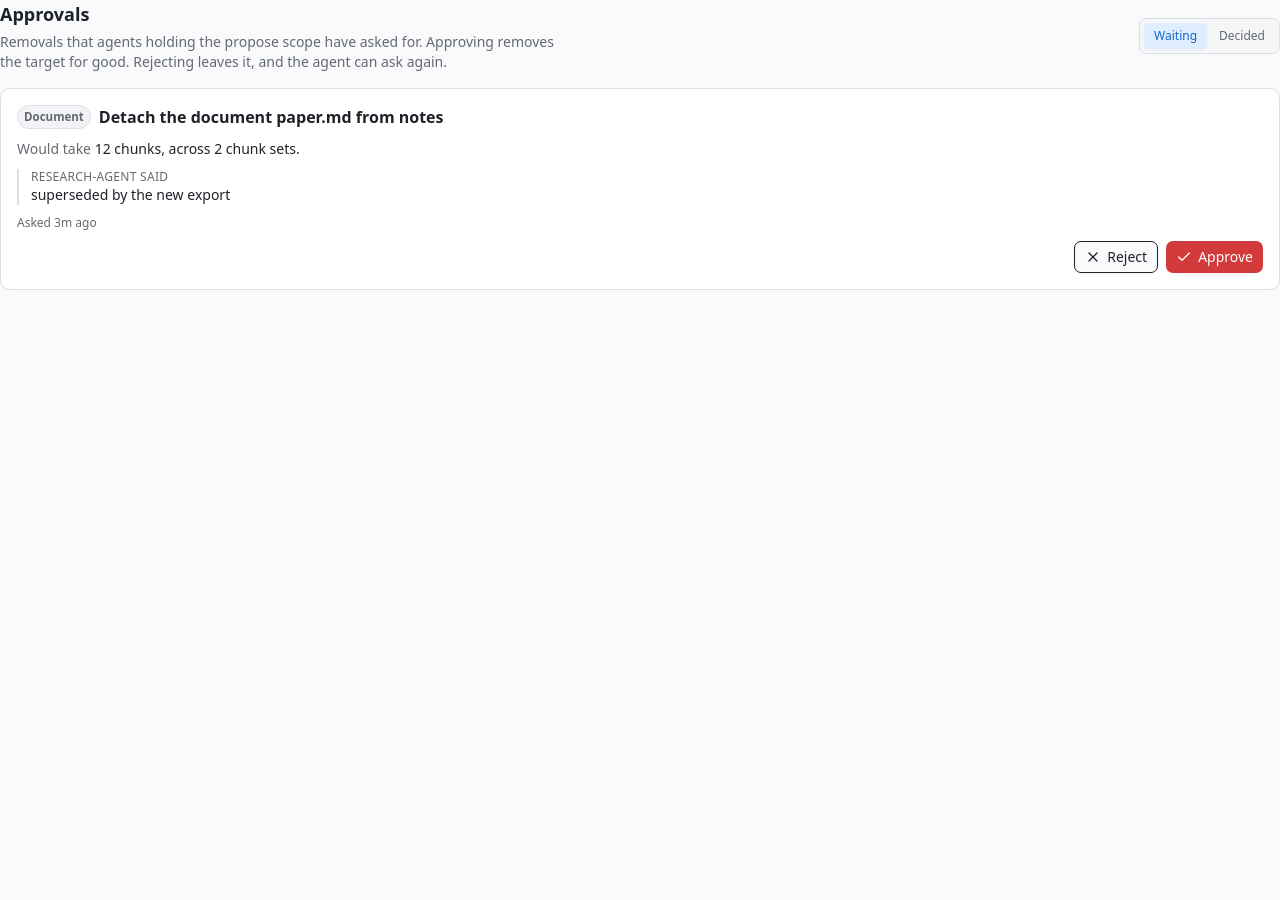
Test: approving › says an uploaded document is deleted with its last attachment, not that it is indexed again
Step 1. Click the button with aria-label "Approve: Detach the document" → (1215, 257), box 1166,241 -> 1263,273
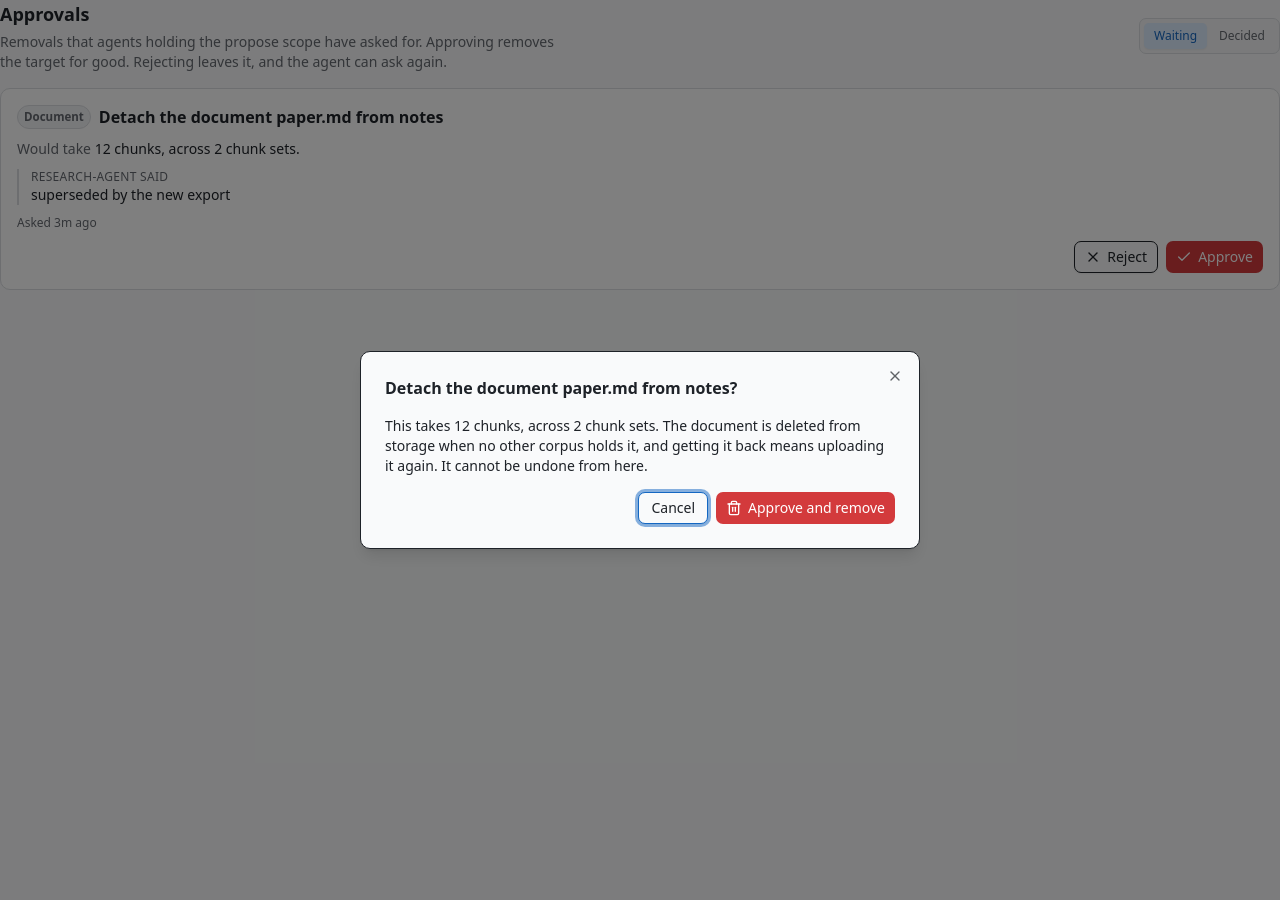
Now the text "This takes 12 chunks, across 2 chunk sets" is shown, box 385,416 -> 895,476
Now the text "deleted from storage when no other corpus holds it, and getting it back means uploading it again" is shown, box 385,416 -> 884,475
